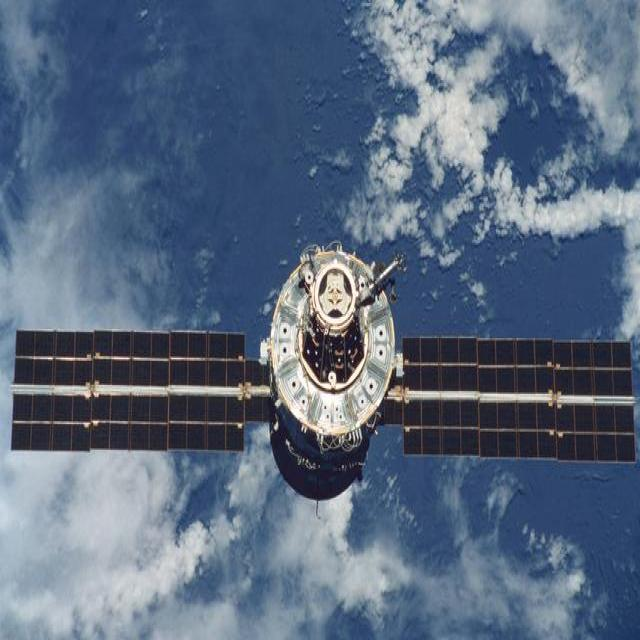medium_debris: (12, 243, 636, 500)
